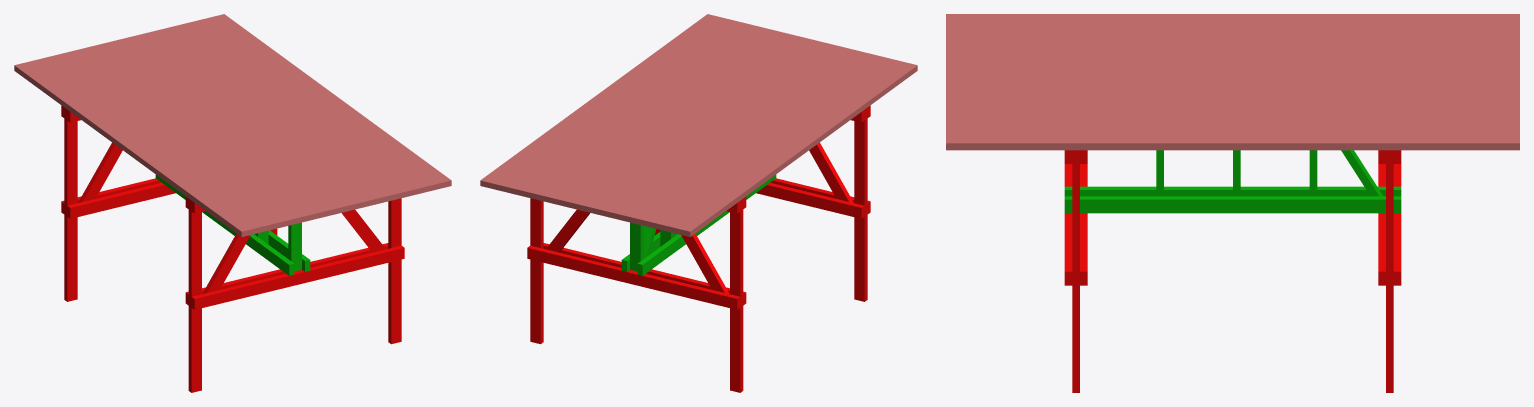
The model's file is result.glb.
3 views of the same model, side by side, from view 1: azimuth 30°, elevation 25°; view 2: azimuth 150°, elevation 25°; view 3: azimuth 270°, elevation 25° (orthographic). The views are drawn at different scales.
Parts seen in each view (by area): view 1: 4c05b7a0-4f6c-411c-99e4-a14d2a31f19b__Box, 0476dd48-2414-44b3-8884-3dda00e3ca3d__sideH, ede2d21b-9109-487d-9666-a4b71d00d64b__undefined, 0dccf0cb-c4ae-4ccf-ad44-06f1f29bf5ac__undefined, 1a29c0d6-9031-4b54-855c-c14941dd5143__undefined, 7ff3a331-cfa1-4dac-aec2-fa101fabdf97__undefined, d8e852c5-acee-4608-8ae1-f5048cbccd0d__undefined, 1d543e0a-9339-4c4b-a972-85711d2a0ae1__undefined, d2bf2a8a-9b96-4111-9f9f-a35b97544ded__undefined, 66ef871f-a7e5-44f8-bd91-b26406b7cc59__undefined, 09180cc5-f1f5-45a5-a957-e741f4139e39__undefined, ca879ff5-8eca-456b-a712-3ed22f683875__undefined (+21 smaller); view 2: 4c05b7a0-4f6c-411c-99e4-a14d2a31f19b__Box, 48d089e3-9971-4ab2-a8a7-286b42b17574__undefined, ede2d21b-9109-487d-9666-a4b71d00d64b__undefined, 0dccf0cb-c4ae-4ccf-ad44-06f1f29bf5ac__undefined, 1a29c0d6-9031-4b54-855c-c14941dd5143__undefined, 7ff3a331-cfa1-4dac-aec2-fa101fabdf97__undefined, d8e852c5-acee-4608-8ae1-f5048cbccd0d__undefined, 1d543e0a-9339-4c4b-a972-85711d2a0ae1__undefined, d2bf2a8a-9b96-4111-9f9f-a35b97544ded__undefined, 66ef871f-a7e5-44f8-bd91-b26406b7cc59__undefined, 09180cc5-f1f5-45a5-a957-e741f4139e39__undefined, ca879ff5-8eca-456b-a712-3ed22f683875__undefined (+20 smaller); view 3: 41377f2d-a869-416b-882b-846f6aaa214b__undefined, 0979ffc3-fa65-4c84-ad99-2d1ad3e937aa__strutH, 0dccf0cb-c4ae-4ccf-ad44-06f1f29bf5ac__undefined, 1a29c0d6-9031-4b54-855c-c14941dd5143__undefined, 4c05b7a0-4f6c-411c-99e4-a14d2a31f19b__Box, ca879ff5-8eca-456b-a712-3ed22f683875__undefined, ede2d21b-9109-487d-9666-a4b71d00d64b__undefined, daaafc87-2b29-43d2-8cc8-9bc1243171bc__undefined, d2bf2a8a-9b96-4111-9f9f-a35b97544ded__undefined, 10897803-dbb5-4c78-a334-2b1b9197d948__undefined, d5c23506-d115-42de-957d-f7ec6792f283__undefined, 874a192c-2f28-4591-bbab-cf3b6a17d001__undefined (+17 smaller).
Part boxes in pixels (x1,y1,x2,y2): 4c05b7a0-4f6c-411c-99e4-a14d2a31f19b__Box: [14, 62, 252, 236]; 0476dd48-2414-44b3-8884-3dda00e3ca3d__sideH: [191, 245, 404, 309]; ede2d21b-9109-487d-9666-a4b71d00d64b__undefined: [35, 57, 273, 231]; 0dccf0cb-c4ae-4ccf-ad44-06f1f29bf5ac__undefined: [77, 47, 315, 221]; 1a29c0d6-9031-4b54-855c-c14941dd5143__undefined: [98, 42, 336, 216]; 7ff3a331-cfa1-4dac-aec2-fa101fabdf97__undefined: [119, 37, 357, 211]; d8e852c5-acee-4608-8ae1-f5048cbccd0d__undefined: [161, 27, 399, 201]; 1d543e0a-9339-4c4b-a972-85711d2a0ae1__undefined: [203, 16, 441, 190]; d2bf2a8a-9b96-4111-9f9f-a35b97544ded__undefined: [56, 52, 294, 226]; 66ef871f-a7e5-44f8-bd91-b26406b7cc59__undefined: [140, 32, 378, 206]; 09180cc5-f1f5-45a5-a957-e741f4139e39__undefined: [182, 21, 420, 195]; ca879ff5-8eca-456b-a712-3ed22f683875__undefined: [25, 60, 262, 234]; 4c05b7a0-4f6c-411c-99e4-a14d2a31f19b__Box: [679, 62, 917, 236]; 48d089e3-9971-4ab2-a8a7-286b42b17574__undefined: [527, 245, 740, 309]; ede2d21b-9109-487d-9666-a4b71d00d64b__undefined: [658, 57, 896, 231]; 0dccf0cb-c4ae-4ccf-ad44-06f1f29bf5ac__undefined: [616, 47, 854, 221]; 1a29c0d6-9031-4b54-855c-c14941dd5143__undefined: [595, 42, 833, 216]; 7ff3a331-cfa1-4dac-aec2-fa101fabdf97__undefined: [574, 37, 812, 211]; d8e852c5-acee-4608-8ae1-f5048cbccd0d__undefined: [532, 27, 770, 201]; 1d543e0a-9339-4c4b-a972-85711d2a0ae1__undefined: [490, 16, 728, 190]; d2bf2a8a-9b96-4111-9f9f-a35b97544ded__undefined: [637, 52, 875, 226]; 66ef871f-a7e5-44f8-bd91-b26406b7cc59__undefined: [553, 32, 791, 206]; 09180cc5-f1f5-45a5-a957-e741f4139e39__undefined: [511, 21, 749, 195]; ca879ff5-8eca-456b-a712-3ed22f683875__undefined: [669, 60, 906, 234]; 41377f2d-a869-416b-882b-846f6aaa214b__undefined: [946, 137, 1519, 150]; 0979ffc3-fa65-4c84-ad99-2d1ad3e937aa__strutH: [1064, 196, 1401, 213]; 0dccf0cb-c4ae-4ccf-ad44-06f1f29bf5ac__undefined: [946, 52, 1519, 59]; 1a29c0d6-9031-4b54-855c-c14941dd5143__undefined: [946, 65, 1519, 72]; 4c05b7a0-4f6c-411c-99e4-a14d2a31f19b__Box: [946, 14, 1519, 20]; ca879ff5-8eca-456b-a712-3ed22f683875__undefined: [946, 20, 1519, 26]; ede2d21b-9109-487d-9666-a4b71d00d64b__undefined: [946, 27, 1519, 33]; daaafc87-2b29-43d2-8cc8-9bc1243171bc__undefined: [946, 33, 1519, 39]; d2bf2a8a-9b96-4111-9f9f-a35b97544ded__undefined: [946, 40, 1519, 46]; 10897803-dbb5-4c78-a334-2b1b9197d948__undefined: [946, 46, 1519, 52]; d5c23506-d115-42de-957d-f7ec6792f283__undefined: [946, 59, 1519, 65]; 874a192c-2f28-4591-bbab-cf3b6a17d001__undefined: [946, 72, 1519, 78].
Size of the model in its own units: 800 by 720 by 1500.
